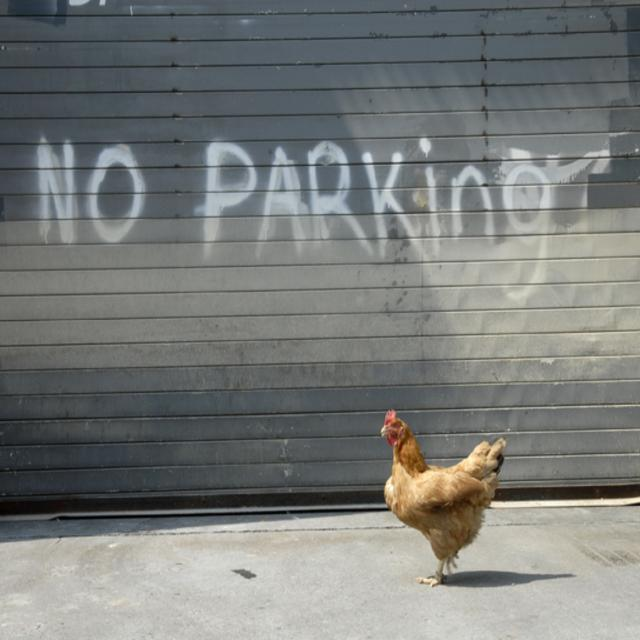Chicken: (385, 415, 504, 586)
